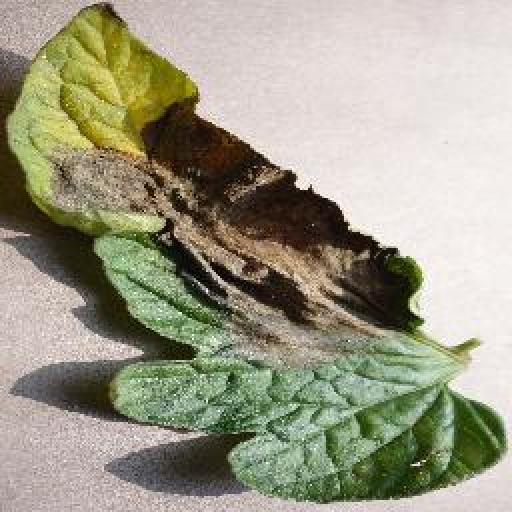Late Blight: (6, 0, 506, 503)
